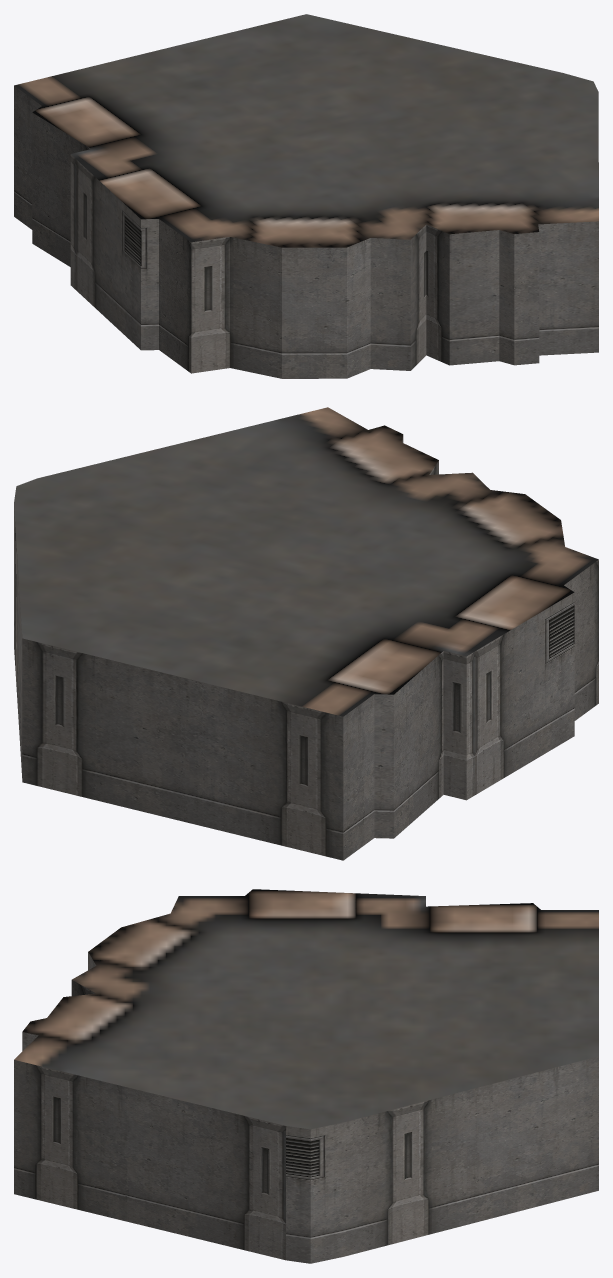
Rendered from building_hard_07.glb.
3 views of the same model, one above another, from view 1: azimuth 30°, elevation 25°; view 2: azimuth 150°, elevation 25°; view 3: azimuth 270°, elevation 25° (orthographic). The views are drawn at different scales.
Parts seen in each view (by area): view 1: buildings/saxarba/building_hard/building_hard_07; view 2: buildings/saxarba/building_hard/building_hard_07; view 3: buildings/saxarba/building_hard/building_hard_07.
Part boxes in pixels (x1,y1,x2,y2): buildings/saxarba/building_hard/building_hard_07: (14,14,598,378); buildings/saxarba/building_hard/building_hard_07: (14,407,598,860); buildings/saxarba/building_hard/building_hard_07: (14,889,598,1263).
Bounding box in the file's own units: 69 × 18 × 71.
